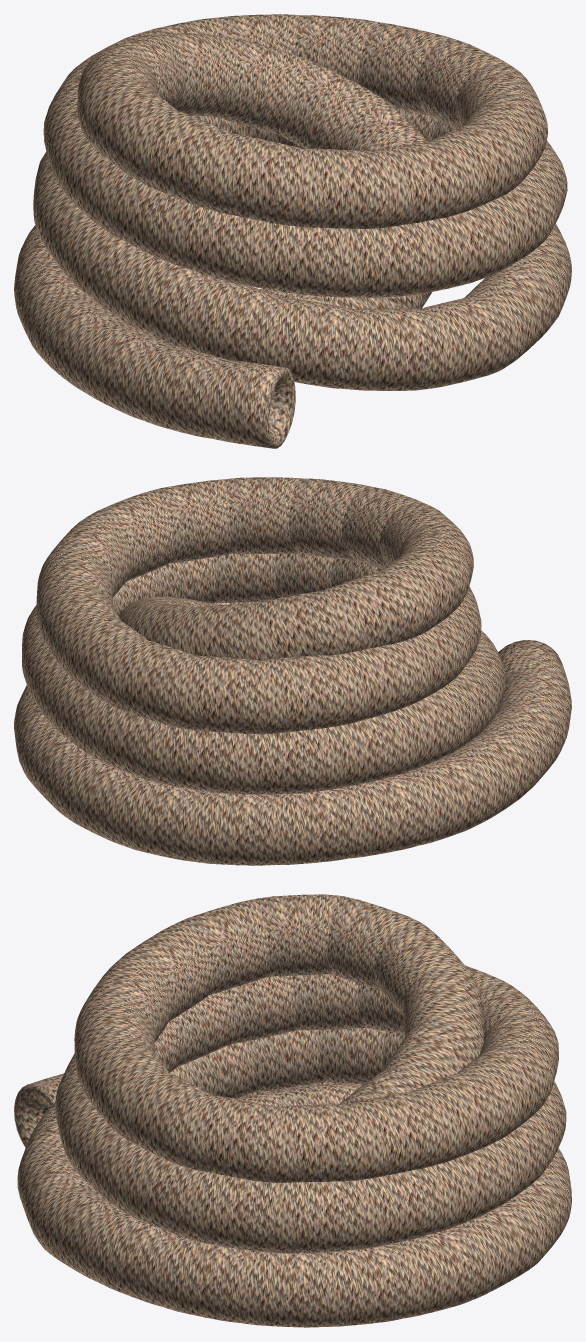
File: fant_rope_model.fbx
3 renders of one model, top to bottom at view 1: azimuth 30°, elevation 25°; view 2: azimuth 150°, elevation 25°; view 3: azimuth 270°, elevation 25°, orthographic. The views are drawn at different scales.
Visible parts, largest first — view 1: fant_rope_handmodel; view 2: fant_rope_handmodel; view 3: fant_rope_handmodel.
Part boxes in pixels (x1,y1,x2,y2): fant_rope_handmodel: (14, 14, 571, 448); fant_rope_handmodel: (14, 477, 571, 865); fant_rope_handmodel: (14, 894, 571, 1327).
Size of the model in its own units: 2 by 1.03 by 1.99.
